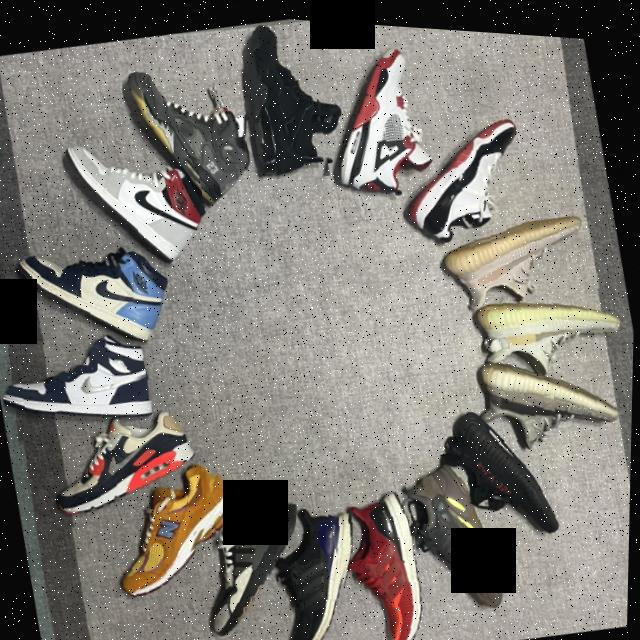shoe: (105, 37, 271, 226), (96, 443, 265, 618), (53, 111, 218, 284), (37, 384, 214, 536), (11, 214, 187, 365), (431, 381, 583, 555), (382, 96, 542, 260), (219, 12, 365, 190), (307, 27, 450, 208), (462, 325, 635, 468), (387, 439, 514, 633), (185, 466, 326, 640), (0, 309, 167, 450), (460, 267, 636, 399), (429, 197, 607, 324), (323, 472, 440, 640), (256, 483, 379, 640)
